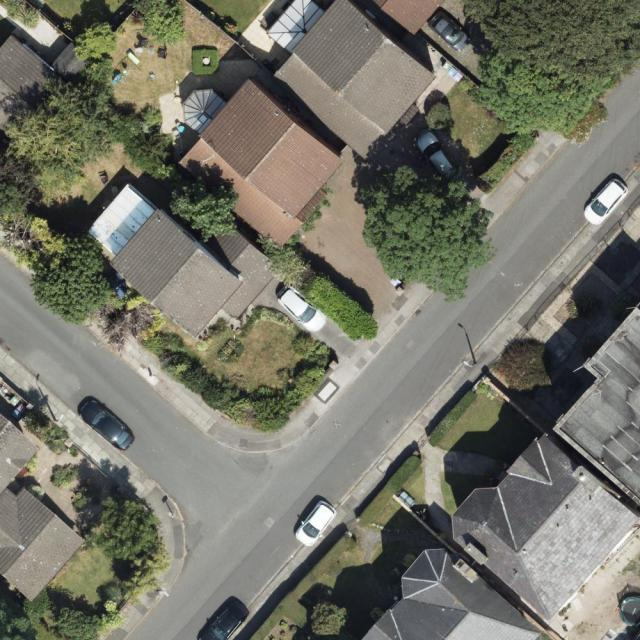roof: (448, 430, 640, 626), (176, 76, 352, 254), (89, 184, 278, 341), (265, 0, 437, 163), (554, 296, 640, 514), (361, 546, 544, 640), (0, 412, 88, 603), (0, 32, 71, 142), (371, 0, 450, 38)
skylight: (194, 109, 214, 128)
